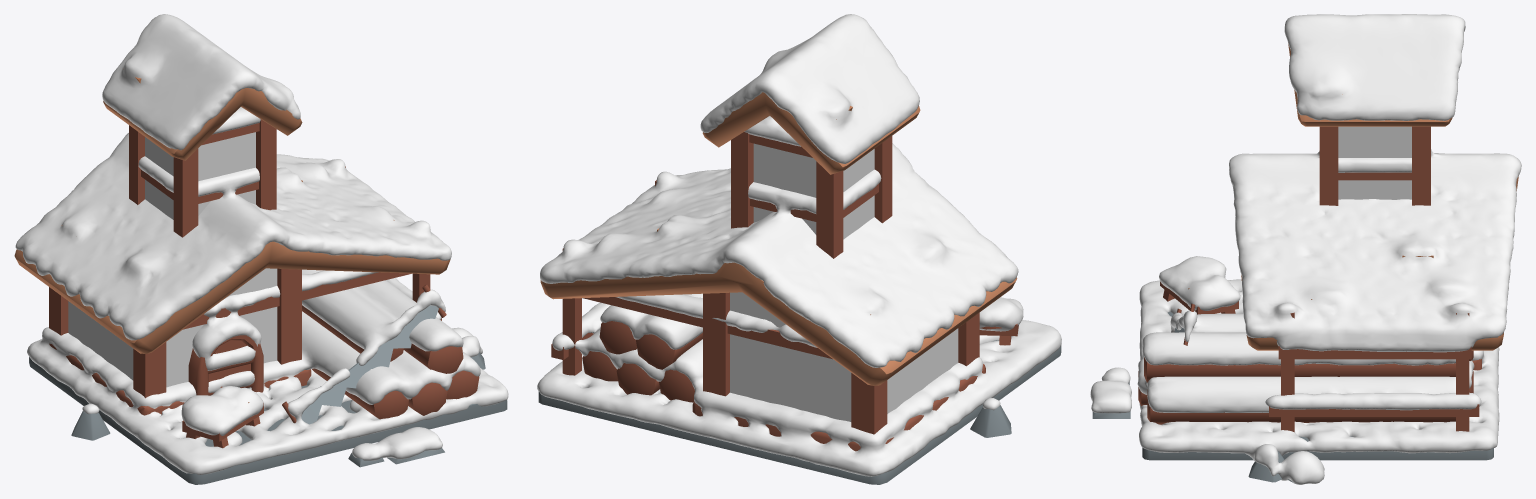
Rendered from lumbermill.fbx.
3 views of the same model, side by side, from view 1: azimuth 30°, elevation 25°; view 2: azimuth 150°, elevation 25°; view 3: azimuth 270°, elevation 25° (orthographic). The views are drawn at different scales.
Visible parts, largest first — view 1: SnowBall.001, lumbermill; view 2: SnowBall.001, lumbermill; view 3: SnowBall.001, lumbermill.
Boxes of the visible parts, <box> form: SnowBall.001: <box>15,14,508,474</box>; lumbermill: <box>14,77,507,484</box>; SnowBall.001: <box>537,14,1061,476</box>; lumbermill: <box>538,92,1061,484</box>; SnowBall.001: <box>1090,14,1521,484</box>; lumbermill: <box>1092,44,1518,483</box>.
Size of the model in its own units: 183 by 152 by 167.
